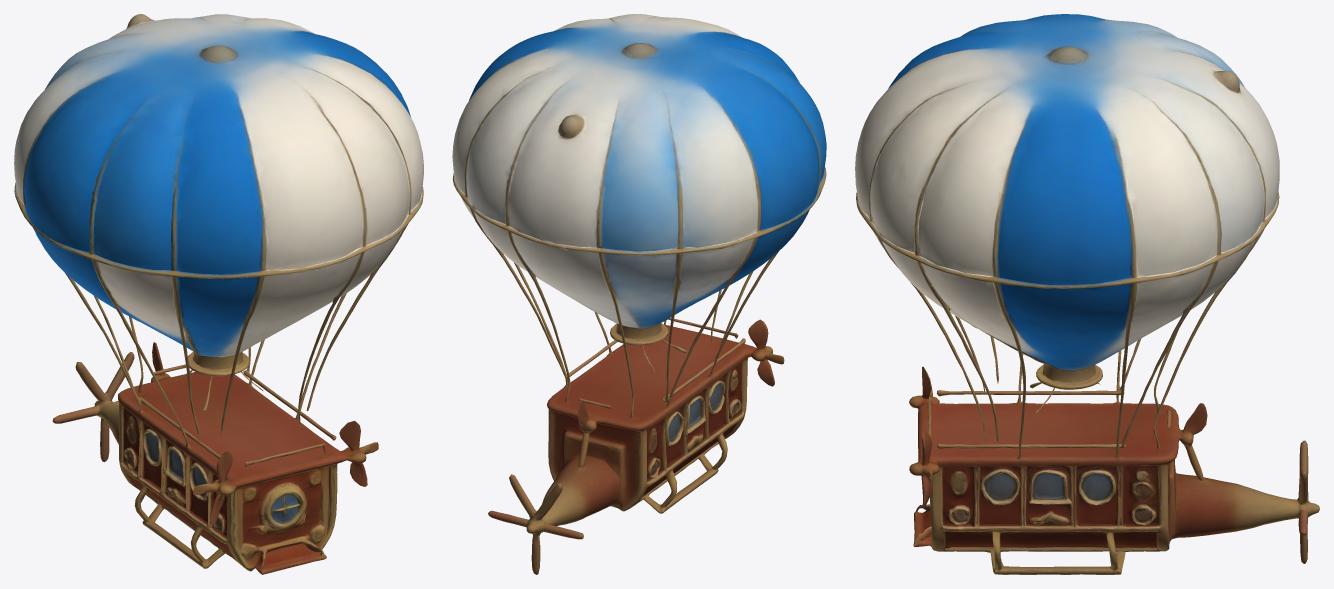
The model's file is airship.glb.
The picture shows the model from 3 angles, left to right: view 1: azimuth 30°, elevation 25°; view 2: azimuth 150°, elevation 25°; view 3: azimuth 270°, elevation 25°; orthographic projection. The views are drawn at different scales.
Parts seen in each view (by area): view 1: Mesh; view 2: Mesh; view 3: Mesh.
Part boxes in pixels (x1,y1,x2,y2): Mesh: (14, 14, 423, 574); Mesh: (452, 14, 826, 574); Mesh: (855, 14, 1319, 574).
Size of the model in its own units: 1.42 by 1.89 by 1.55.
Materials: 1 (1 with a texture image).
